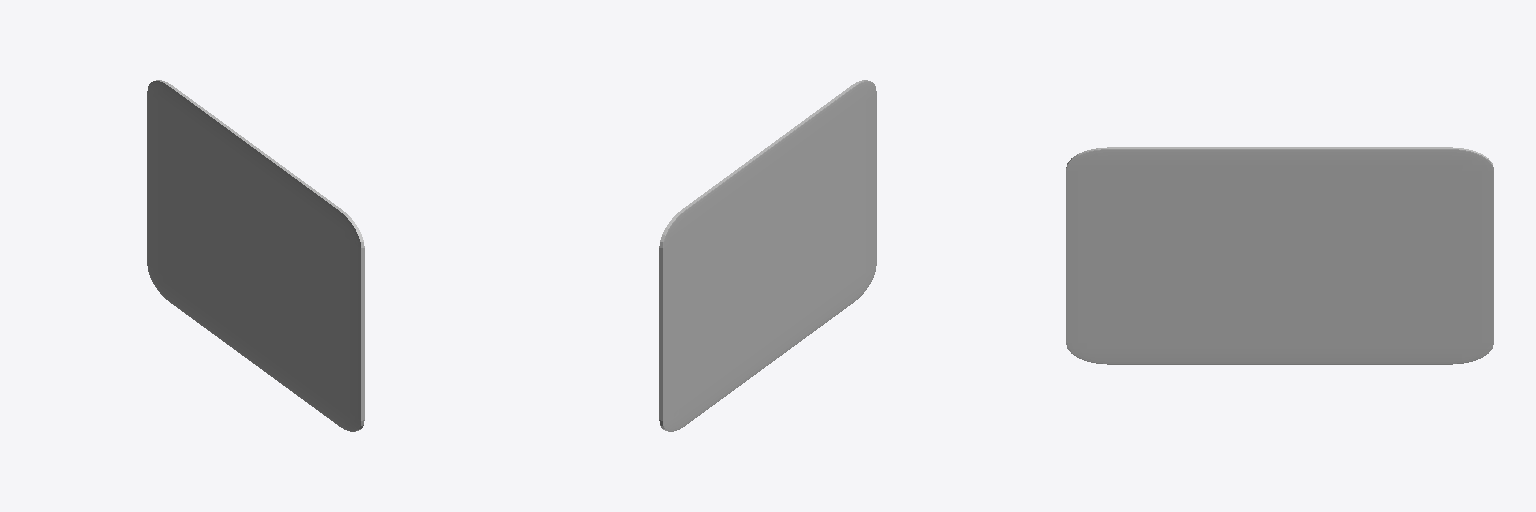
File: curvywindshield.obj
3 renders of one model, left to right at view 1: azimuth 30°, elevation 25°; view 2: azimuth 150°, elevation 25°; view 3: azimuth 270°, elevation 25°, orthographic.
Parts seen in each view (by area): view 1: Cube; view 2: Cube; view 3: Cube.
Part boxes in pixels (x1,y1,x2,y2): Cube: (147, 80, 364, 431); Cube: (659, 80, 876, 431); Cube: (1066, 147, 1493, 364).
Bounding box in the file's own units: 0.02 × 1 × 1.8.